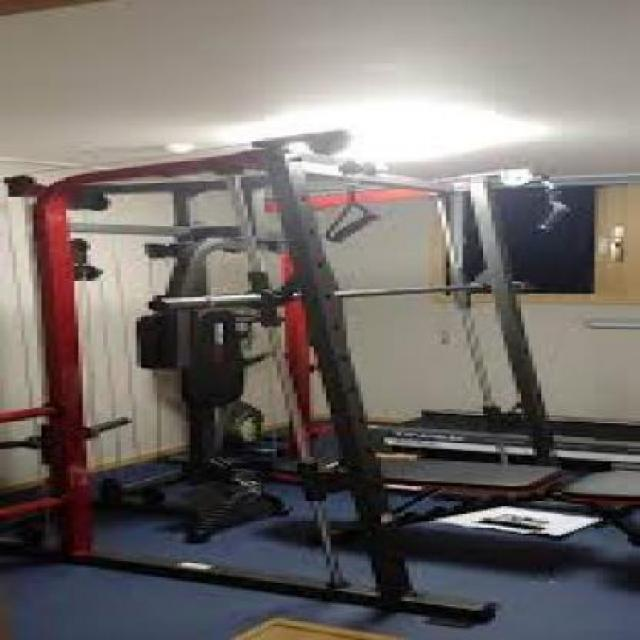smith machine: (6, 131, 594, 631)
